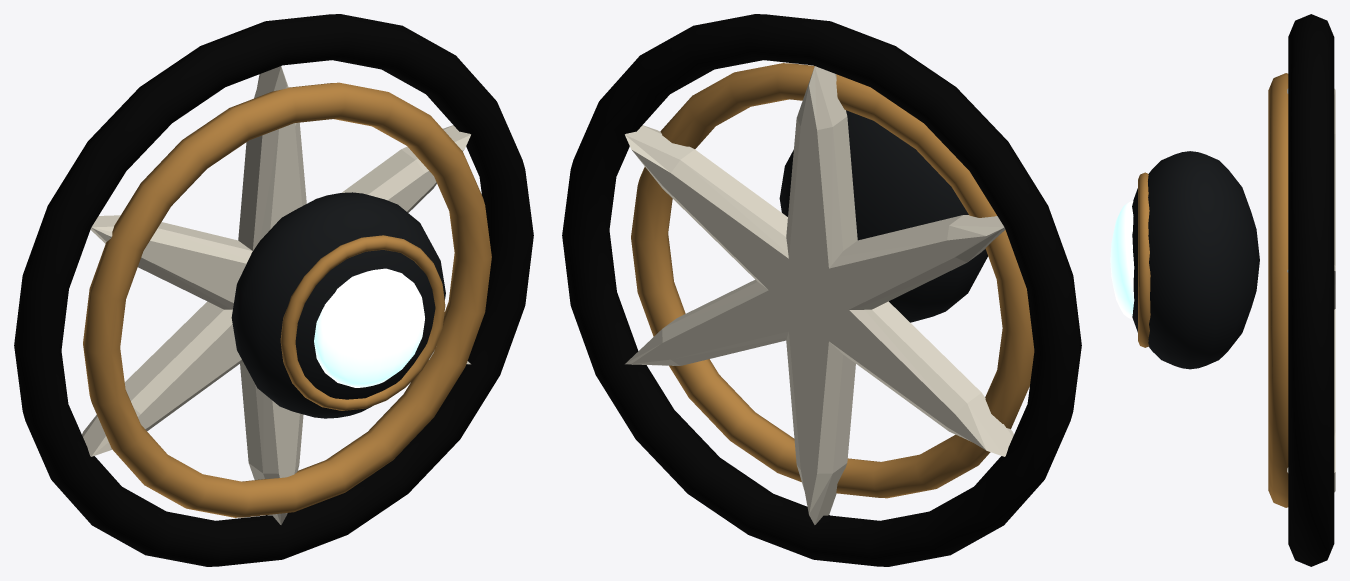
File: warden-machine-splitter-v1.glb
3 views of the same model, side by side, from view 1: azimuth 30°, elevation 25°; view 2: azimuth 150°, elevation 25°; view 3: azimuth 270°, elevation 25° (orthographic). The views are drawn at different scales.
Visible parts, largest first — view 1: Flywheel, Exposed instrument; view 2: Flywheel, Exposed instrument; view 3: Flywheel, Exposed instrument.
Part boxes in pixels (left/top/right/bottom): Flywheel: left=14, top=14, right=533, bottom=566; Exposed instrument: left=231, top=192, right=445, bottom=418; Flywheel: left=562, top=14, right=1081, bottom=566; Exposed instrument: left=779, top=110, right=987, bottom=322; Flywheel: left=1268, top=14, right=1335, bottom=566; Exposed instrument: left=1110, top=151, right=1259, bottom=369.
Size of the model in its own units: 1.33 by 1.33 by 0.5399.
5 materials, 1 textured.
